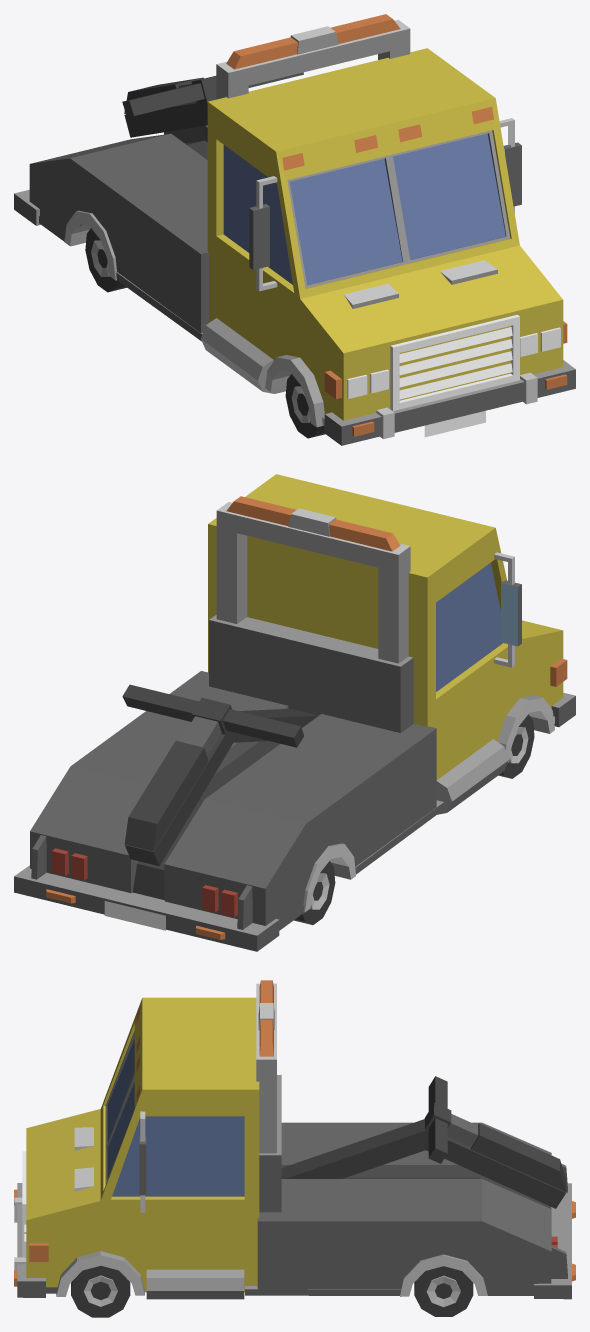
File: transport_purpose_008.fbx
The picture shows the model from 3 angles, top to bottom: view 1: azimuth 30°, elevation 25°; view 2: azimuth 150°, elevation 25°; view 3: azimuth 270°, elevation 25°; orthographic projection. The views are drawn at different scales.
Parts seen in each view (by area): view 1: transport_purpose_008; view 2: transport_purpose_008; view 3: transport_purpose_008.
Part boxes in pixels (x1,y1,x2,y2): transport_purpose_008: [14, 14, 575, 445]; transport_purpose_008: [14, 474, 575, 951]; transport_purpose_008: [14, 980, 575, 1317].
Bounding box in the file's own units: 202 × 219 × 426.
